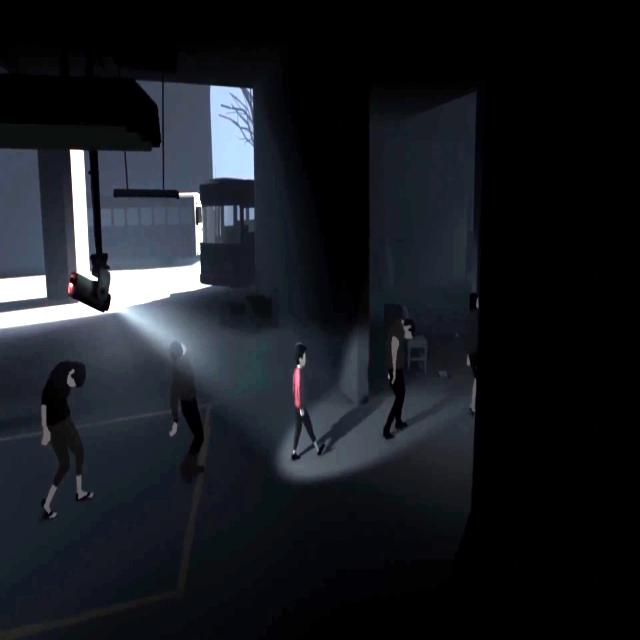boy: (291, 343, 324, 461)
zombie: (466, 293, 479, 417)
